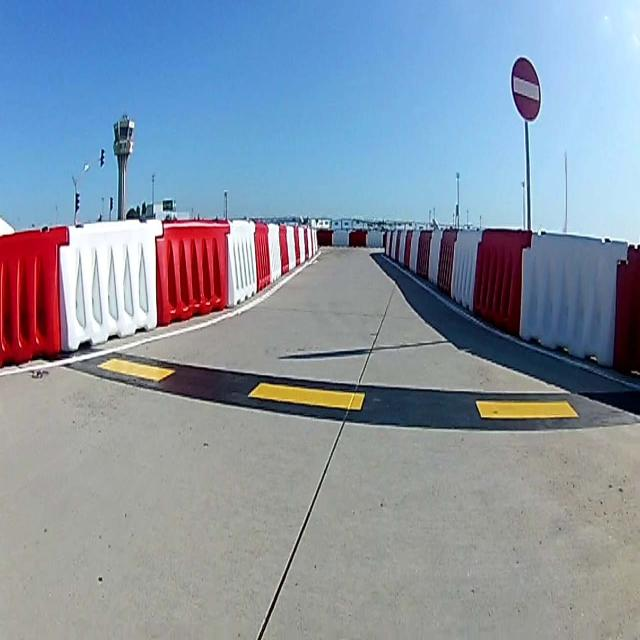girisyok: (512, 53, 540, 119)
